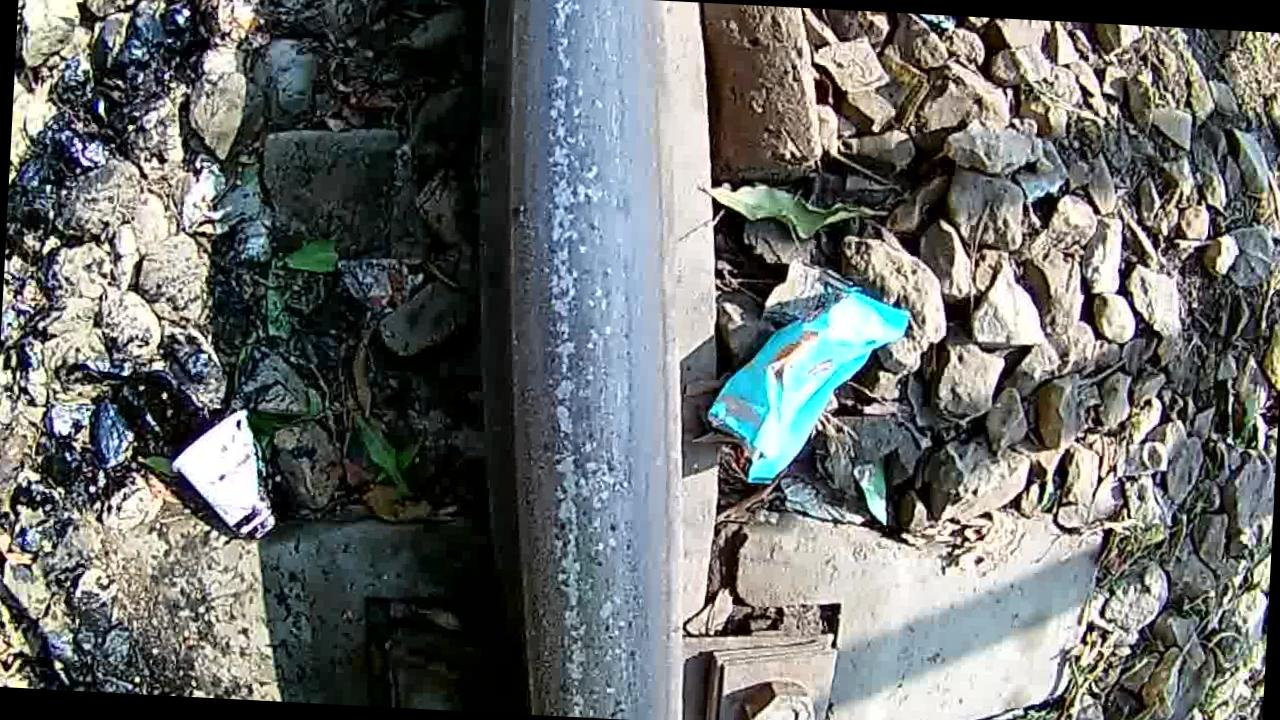clip_missing: (461, 0, 712, 720)
